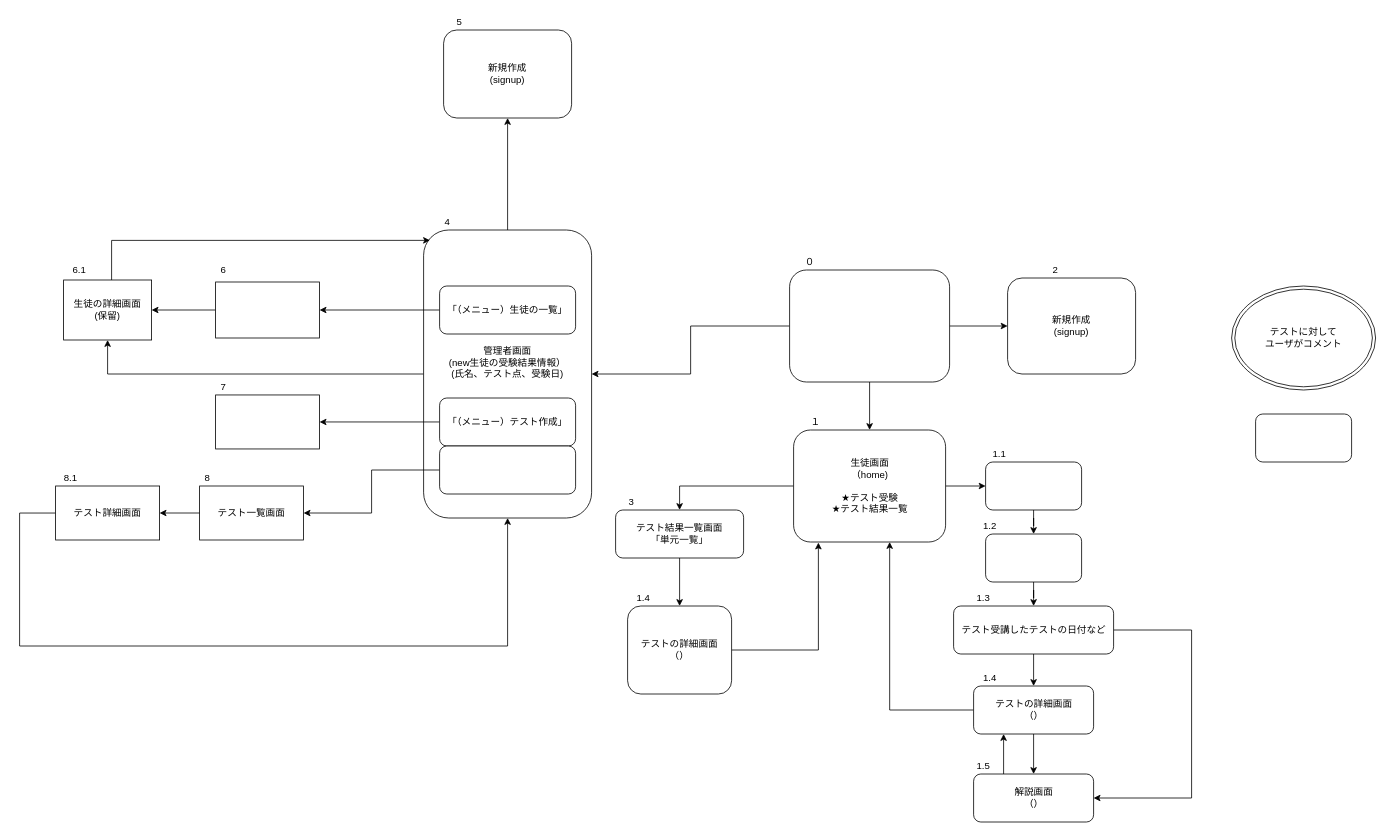
The diagram is 1390 pixels wide and 836 high, and some of its shapes have lost their labels. Here are the shapes that lost their labels. From the top down, the centre of each, then its label:
point (267, 309): 生徒の一覧
point (869, 325): ログイン画面 (login)
point (267, 421): テスト作成画面
point (1303, 437): 日報 ◆チャレンジ課題◆
point (507, 469): 「（メニュー）テスト一覧」
point (1033, 485): テスト受験画面 「単元一覧」 ( )
point (1033, 557): テスト受験ページ
